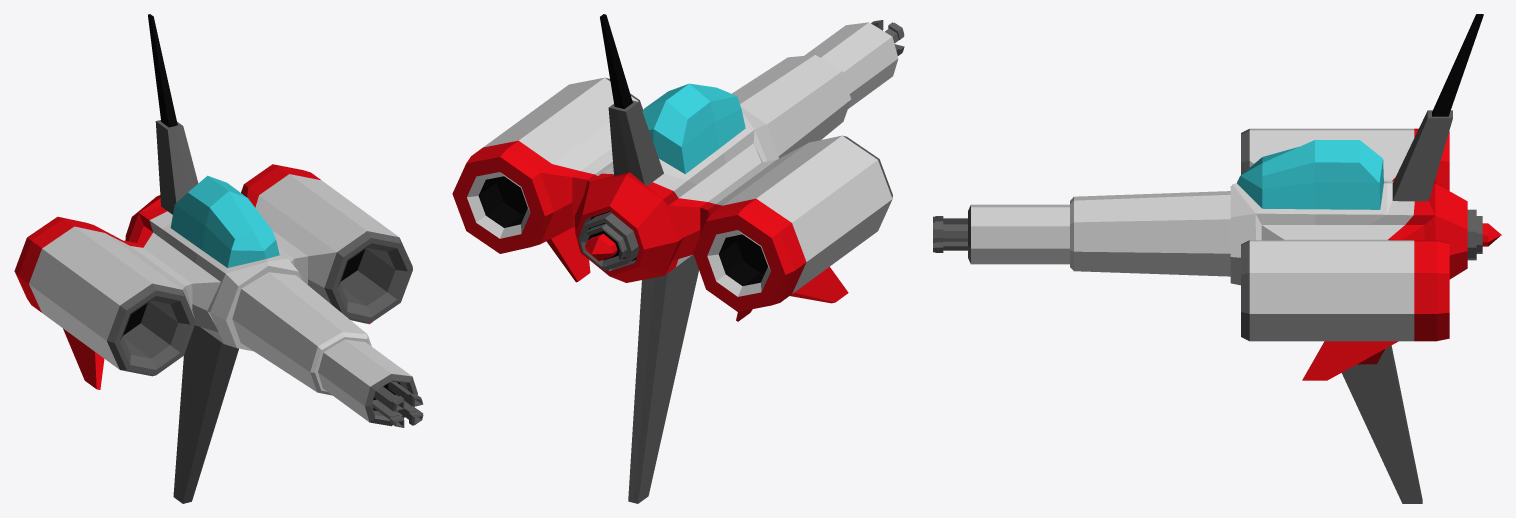
The model's file is Sonicship.fbx.
3 views of the same model, side by side, from view 1: azimuth 30°, elevation 25°; view 2: azimuth 150°, elevation 25°; view 3: azimuth 270°, elevation 25° (orthographic). The views are drawn at different scales.
Parts seen in each view (by area): view 1: Cube; view 2: Cube; view 3: Cube.
Part boxes in pixels (x1=…): Cube: x1=14, y1=14, x2=423, y2=503; Cube: x1=452, y1=14, x2=904, y2=503; Cube: x1=933, y1=14, x2=1501, y2=503.
Size of the model in its own units: 1846 by 1213 by 1745.
